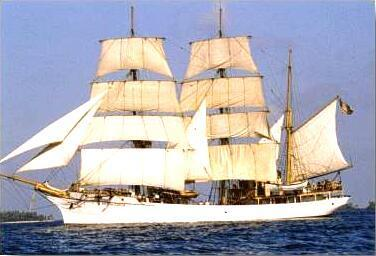Ship: (1, 5, 355, 227)
